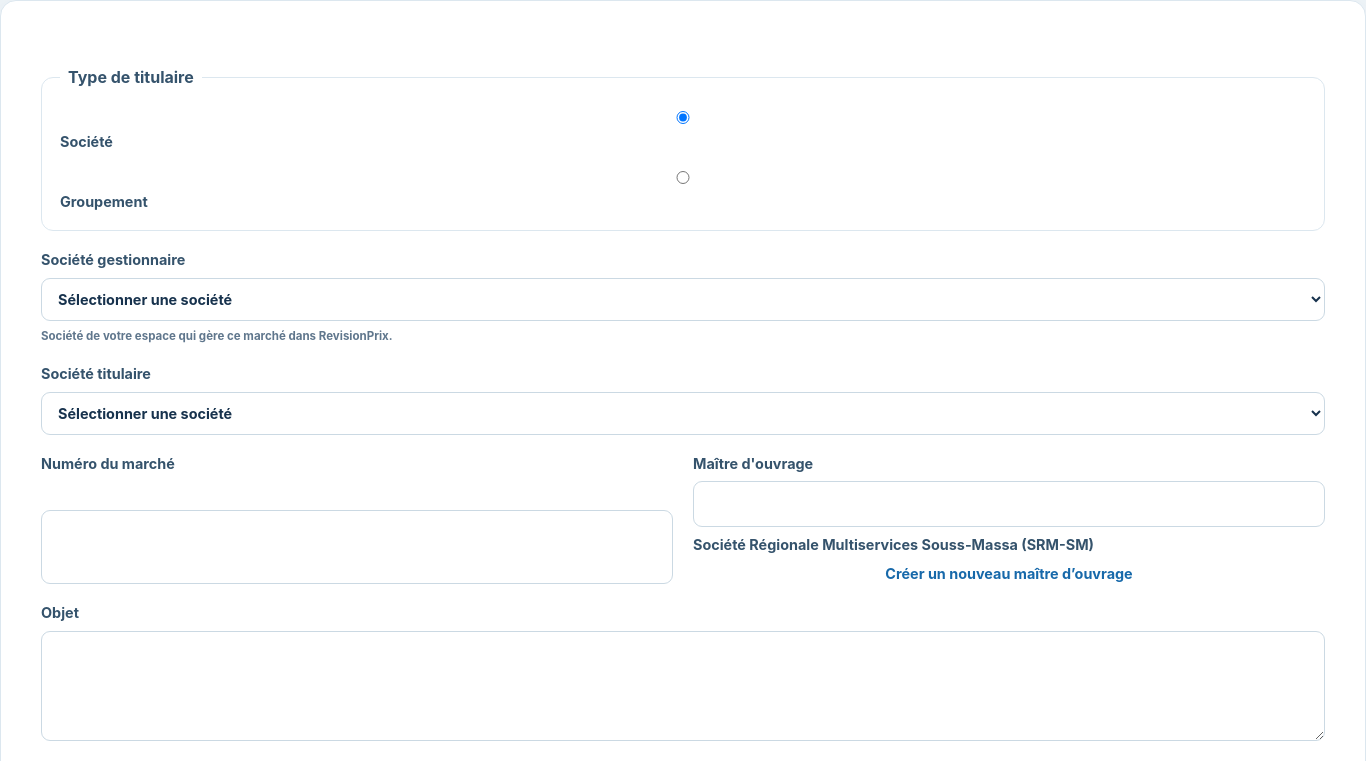
Test: MarketForm › associe une suggestion d’autorité à son identifiant
In the field labelled "Maître d'ouvrage": {"x": 1009, "y": 504} [693,481,1325,527], type "Société Rég"
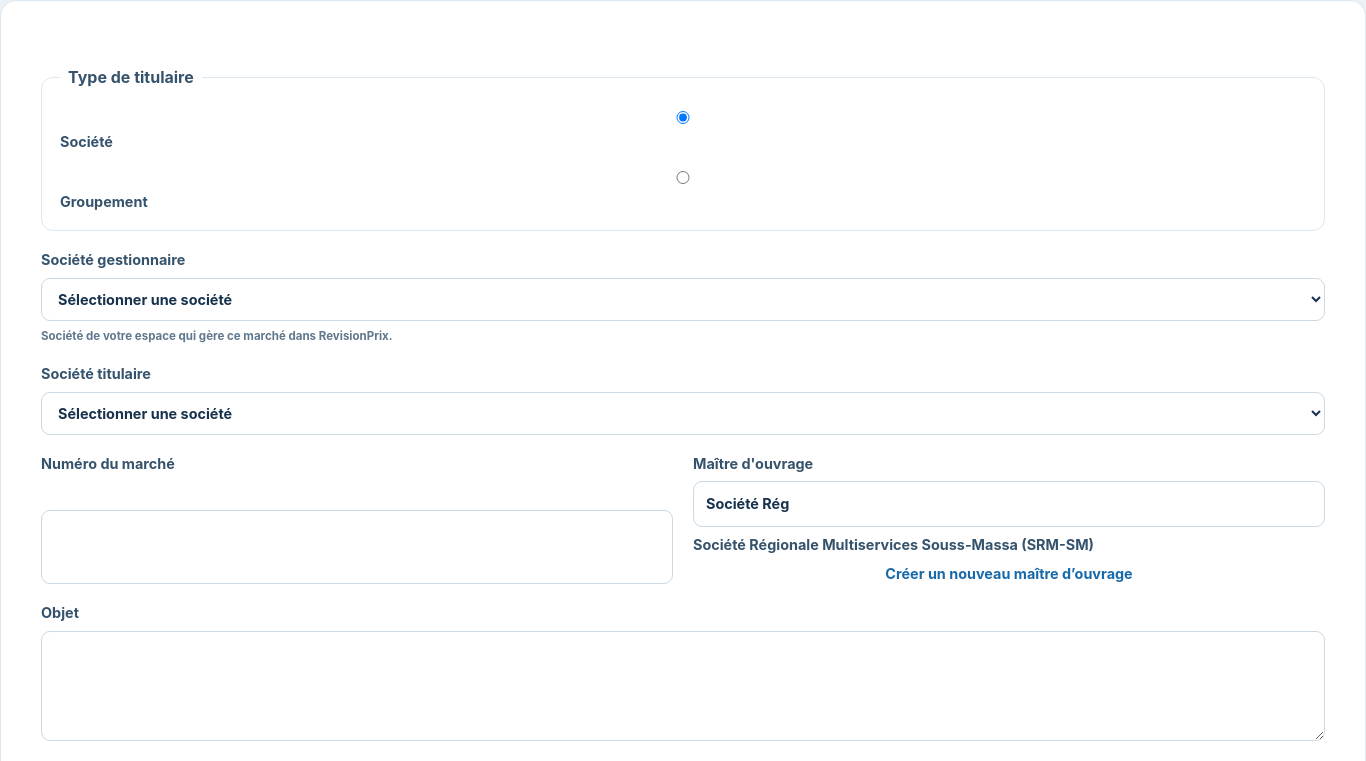
Click the option "Société Régionale Multiservices Souss-Massa (SRM-SM)": {"x": 894, "y": 545} [693,534,1094,556]
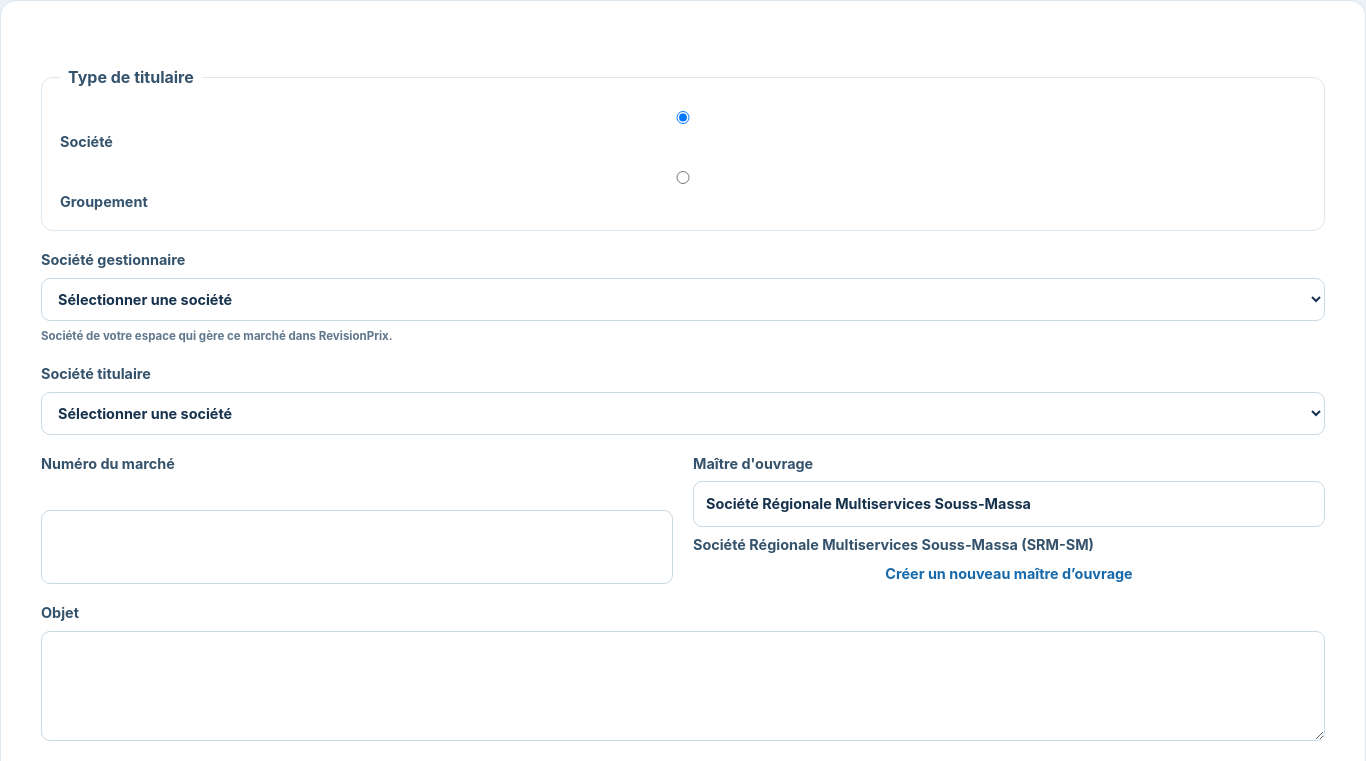
Expected: the field labelled "Maître d'ouvrage" holds "Société Régionale Multiservices Souss-Massa", [693,481,1325,527]
